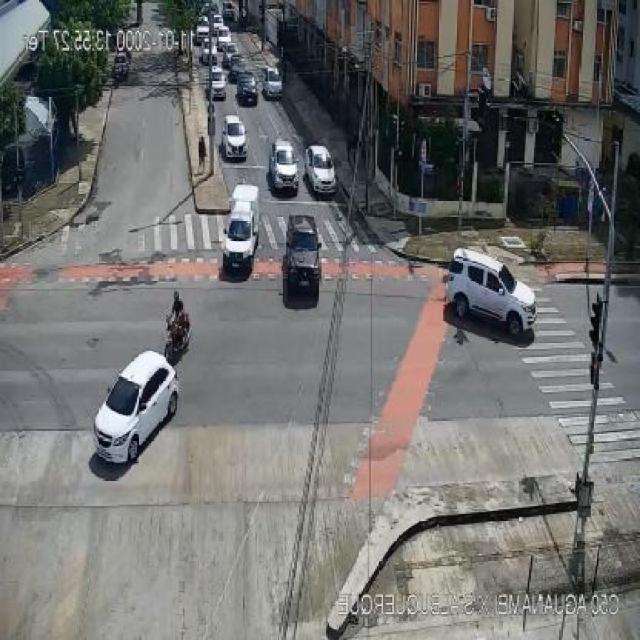Car: (89, 350, 185, 496), (442, 243, 552, 345), (288, 209, 339, 295), (301, 141, 339, 200), (221, 114, 251, 164)
Cycle: (154, 285, 198, 355)
Truck: (214, 176, 260, 284), (268, 135, 300, 196)
